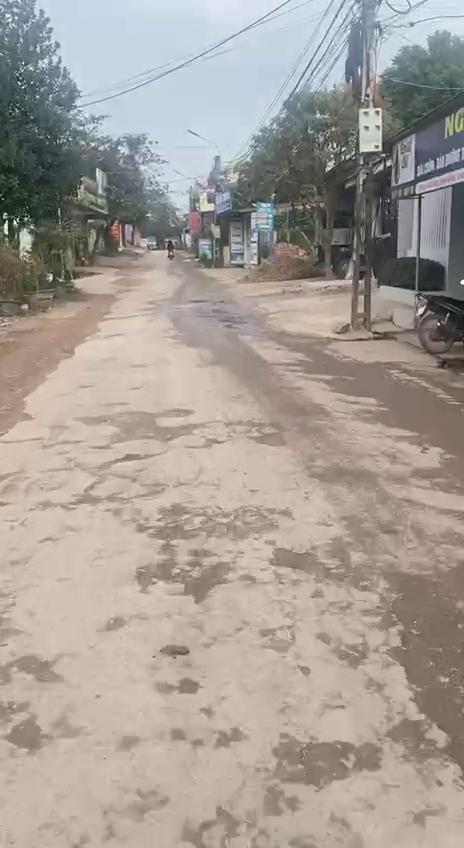pothole: (364, 562, 464, 774), (252, 718, 383, 815), (54, 452, 179, 513), (135, 499, 296, 546), (134, 545, 256, 606), (262, 544, 378, 597), (71, 408, 213, 448), (0, 701, 92, 757), (0, 648, 66, 690), (248, 424, 291, 455)
